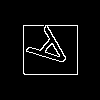A: (25, 25, 82, 80)
